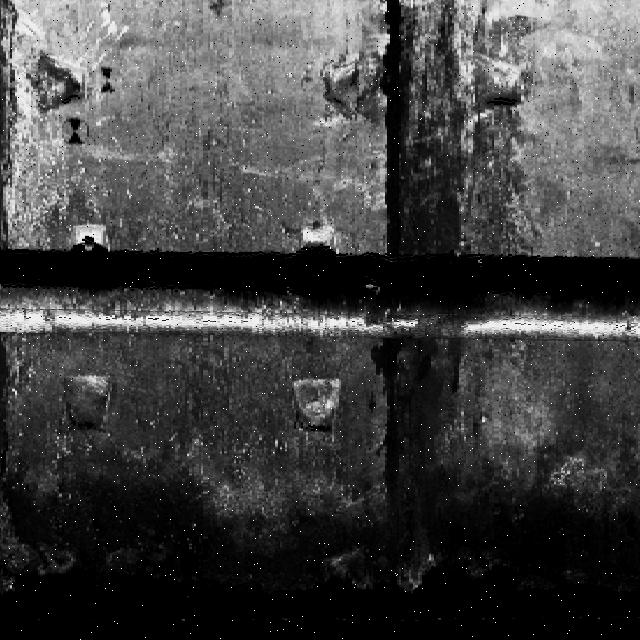leakage: (0, 497, 639, 640), (352, 1, 513, 257), (361, 336, 474, 483)
